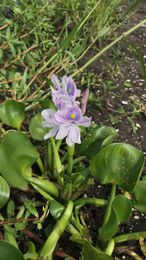water_hyacinth: (1, 79, 146, 251)
